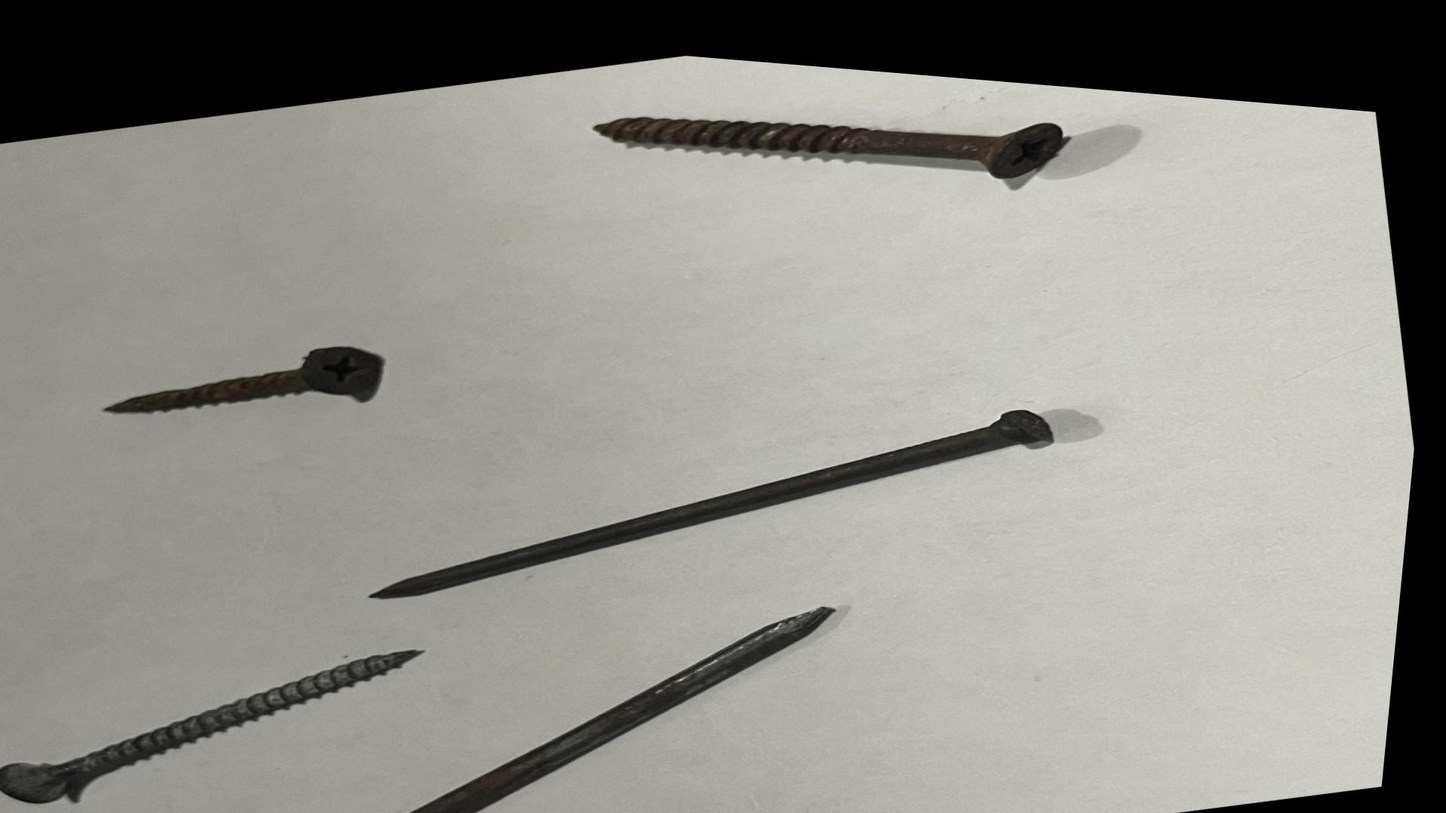nail: (269, 311, 1182, 676), (242, 534, 936, 813)
screw: (469, 31, 1142, 282), (0, 598, 457, 813), (27, 289, 472, 498)
